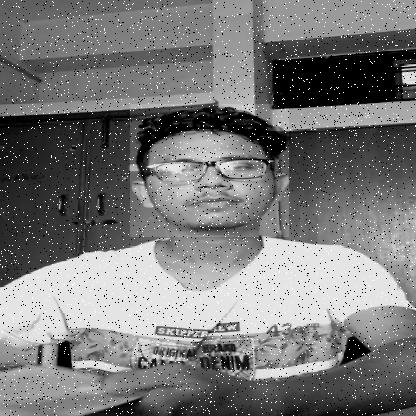Normal: (130, 104, 289, 237)
